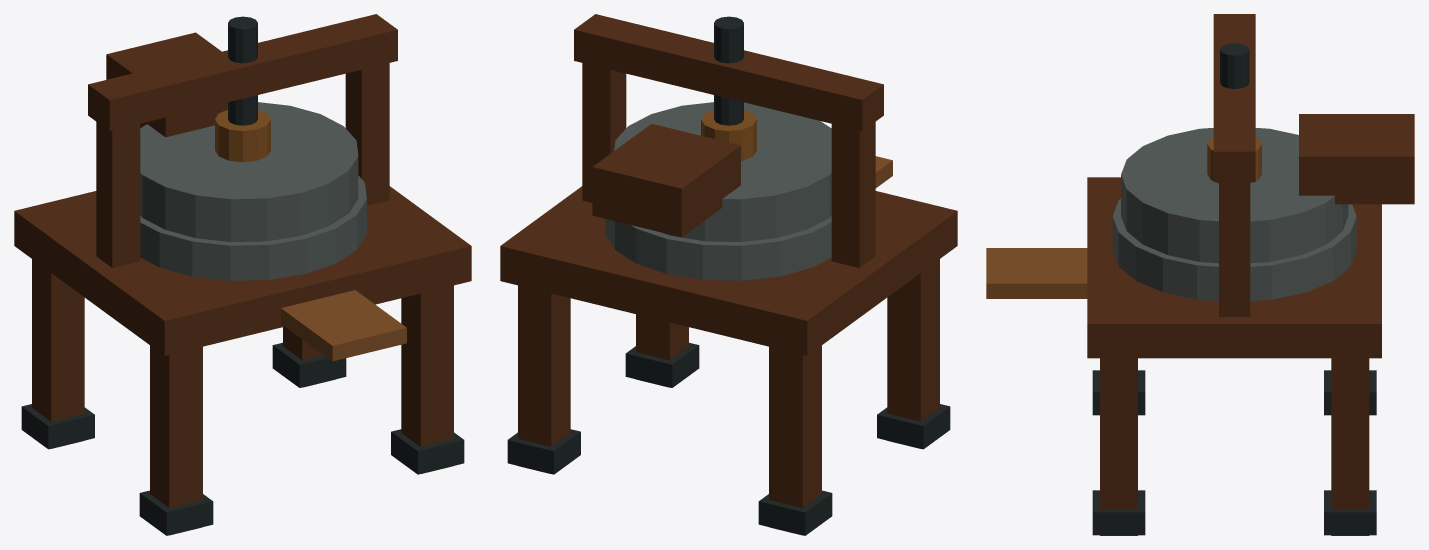
File: vf_recipe_mill.obj
3 views of the same model, side by side, from view 1: azimuth 30°, elevation 25°; view 2: azimuth 150°, elevation 25°; view 3: azimuth 270°, elevation 25° (orthographic). The views are drawn at different scales.
Visible parts, largest first — view 1: Static_Oak, Millstone_Stone, Static_Iron, Static_Stone, Static_OakLight, Millstone_Bronze; view 2: Static_Oak, Millstone_Stone, Static_Iron, Static_Stone, Millstone_Bronze; view 3: Static_Oak, Millstone_Stone, Static_Stone, Static_Iron, Static_OakLight, Millstone_Bronze.
Boxes of the visible parts, bbox=[...] form: Static_Oak: bbox=[14, 14, 471, 535]; Millstone_Stone: bbox=[140, 102, 358, 241]; Static_Iron: bbox=[21, 16, 464, 535]; Static_Stone: bbox=[140, 175, 366, 280]; Static_OakLight: bbox=[281, 290, 406, 361]; Millstone_Bronze: bbox=[215, 109, 270, 162]; Static_Oak: bbox=[500, 14, 957, 535]; Millstone_Stone: bbox=[614, 102, 831, 241]; Static_Iron: bbox=[507, 16, 950, 535]; Static_Stone: bbox=[605, 216, 831, 280]; Millstone_Bronze: bbox=[701, 109, 756, 160]; Static_Oak: bbox=[1087, 14, 1414, 535]; Millstone_Stone: bbox=[1121, 128, 1348, 263]; Static_Stone: bbox=[1112, 199, 1356, 300]; Static_Iron: bbox=[1092, 43, 1376, 535]; Static_OakLight: bbox=[986, 248, 1087, 298]; Millstone_Bronze: bbox=[1207, 137, 1261, 183].
Size of the model in its own units: 1.65 by 2.19 by 2.03.
